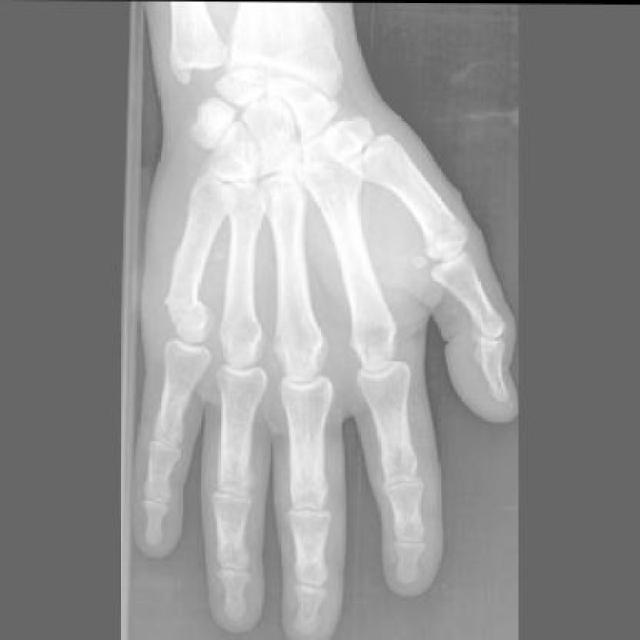Fracture: (162, 288, 210, 332)
